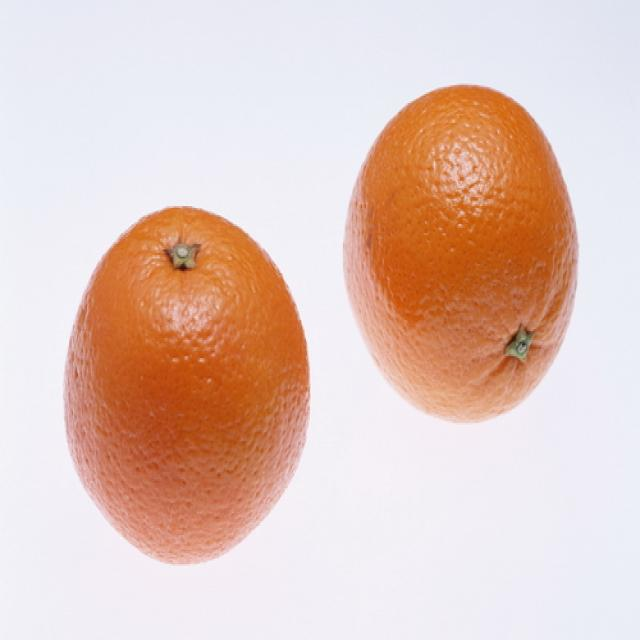Orange: (58, 202, 314, 563), (337, 79, 584, 423)
